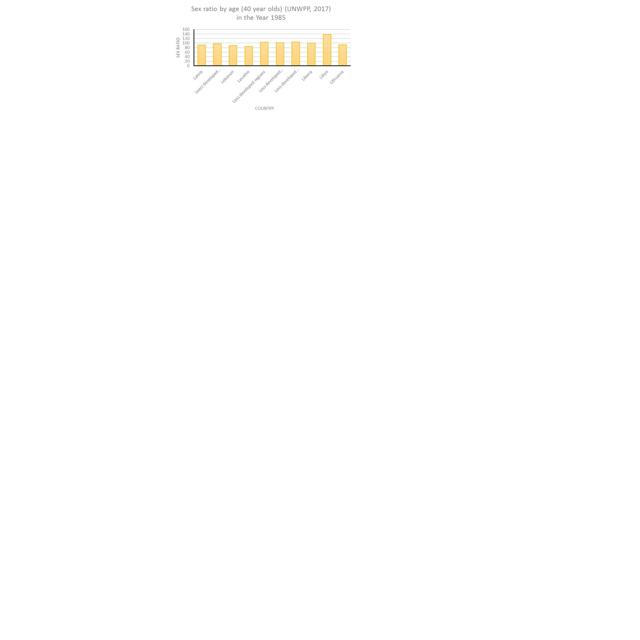Graph: (171, 3, 353, 111)
